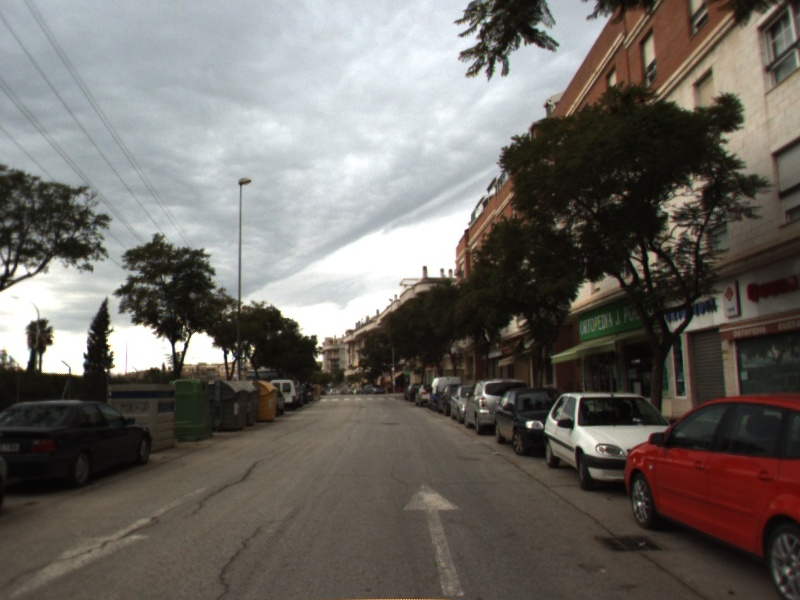STRAIGHT: (400, 480, 469, 598)
